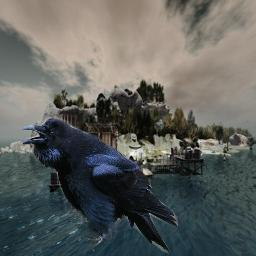Crow: (20, 117, 178, 254)
